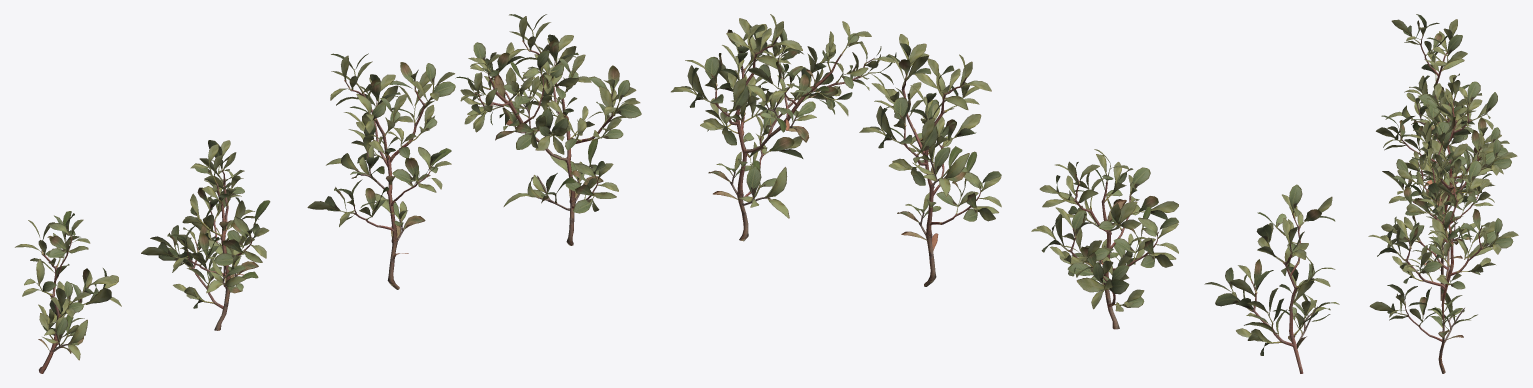
File: shrub_04_1k.gltf
3 renders of one model, left to right at view 1: azimuth 30°, elevation 25°; view 2: azimuth 150°, elevation 25°; view 3: azimuth 270°, elevation 25°, orthographic. The views are drawn at different scales.
Visible parts, largest first — view 1: shrub_04; view 2: shrub_04; view 3: shrub_04.
Part boxes in pixels (x1,y1,x2,y2): shrub_04: [15, 14, 641, 373]; shrub_04: [671, 14, 1339, 373]; shrub_04: [1368, 14, 1518, 373].
Bounding box in the file's own units: 0.5837 × 0.2192 × 0.1461.
Materials: 1 (1 with a texture image).
